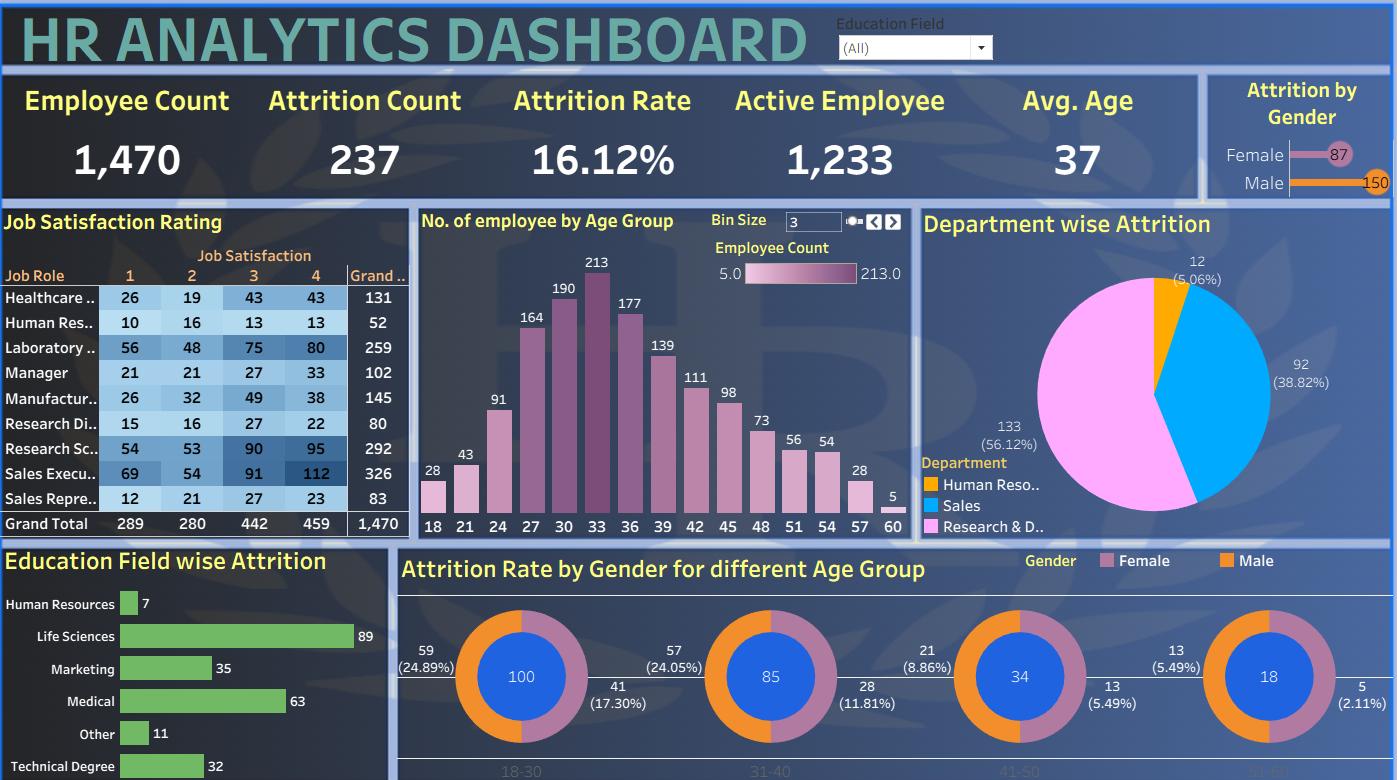

Layout of this report page (visuals, bound fields, positions):
{"tool":"tableau","page":{"name":"HR Analytics Dashbord","canvas":[1000,1000],"units":"permille","ordinal":0},"visuals":[{"type":"text","box":[50,32.4,506.3,71.1]},{"type":"filter","title":"KPI","param":"[federated.0j14tln0f9cnx617emkhh1kvqn6t].[none:EducationField:nk]","box":[569,38.6,101.3,58.6]},{"type":"worksheet","title":"Attrition by Gender","mark":"Automatic","rows":["Gender"],"cols":["Calculation_1495658467196928","Calculation_1495658467196928"],"box":[805.1,111,117.7,158.3]},{"type":"worksheet","title":"KPI","mark":"Automatic","box":[44.9,119.7,752.5,148.4]},{"type":"worksheet","title":"Job Satisfaction Rating","mark":"Square","rows":["JobRole"],"cols":["JobSatisfaction"],"box":[39.2,275.6,260.1,416.5]},{"type":"worksheet","title":"No. of employee by Age Group","mark":"Automatic","rows":["EmployeeCount"],"cols":["Age (bin)"],"box":[303.8,275.6,312,417.7]},{"type":"worksheet","title":"Department wise attrition","mark":"Pie","box":[621.5,275.6,297.5,418.9]},{"type":"parameter","param":"[Parameters].[Parameter 1]","box":[489.9,283,122.2,49.9]},{"type":"legend","title":"No. of employee by Age Group","param":"[federated.0j14tln0f9cnx617emkhh1kvqn6t].[sum:EmployeeCount:qk]","box":[492.4,318,120.9,109.7]},{"type":"legend","title":"Department wise attrition","param":"[federated.0j14tln0f9cnx617emkhh1kvqn6t].[none:Department:nk]","box":[622.8,586,80.4,109.7]},{"type":"worksheet","title":"Education Field wise Attrition","mark":"Automatic","rows":["EducationField"],"cols":["Calculation_1495658467196928"],"box":[39.9,695.8,247.5,301.8]},{"type":"worksheet","title":"Attrition Rate by Gender for different Age Group","mark":"Pie","rows":["Calculation_1169930093998084","Calculation_1169930093998084"],"cols":["Calculation_1169930092482562"],"box":[291.1,705.7,631,293]},{"type":"legend","title":"Attrition Rate by Gender for different Age Group","param":"[federated.0j14tln0f9cnx617emkhh1kvqn6t].[none:Gender:nk]","box":[688.6,708.2,215.2,38.6]}]}

Visuals, with their boxes on the dashboard's canvas, which has no fixed pixel size, in thousandths of its width and height (x1, y1, x2, y2). These are canvas units, not pixel positions in the 1397x780 screenshot, which may show the page scaled, cropped or inside an application window:
text: BBox(50, 32, 556, 104)
"KPI" filter: BBox(569, 39, 670, 97)
"Attrition by Gender" worksheet: BBox(805, 111, 923, 269)
"KPI" worksheet: BBox(45, 120, 797, 268)
"Job Satisfaction Rating" worksheet (Square marks): BBox(39, 276, 299, 692)
"No. of employee by Age Group" worksheet: BBox(304, 276, 616, 693)
"Department wise attrition" worksheet (Pie marks): BBox(622, 276, 919, 694)
parameter: BBox(490, 283, 612, 333)
"No. of employee by Age Group" legend: BBox(492, 318, 613, 428)
"Department wise attrition" legend: BBox(623, 586, 703, 696)
"Education Field wise Attrition" worksheet: BBox(40, 696, 287, 998)
"Attrition Rate by Gender for different Age Group" worksheet (Pie marks): BBox(291, 706, 922, 999)
"Attrition Rate by Gender for different Age Group" legend: BBox(689, 708, 904, 747)
